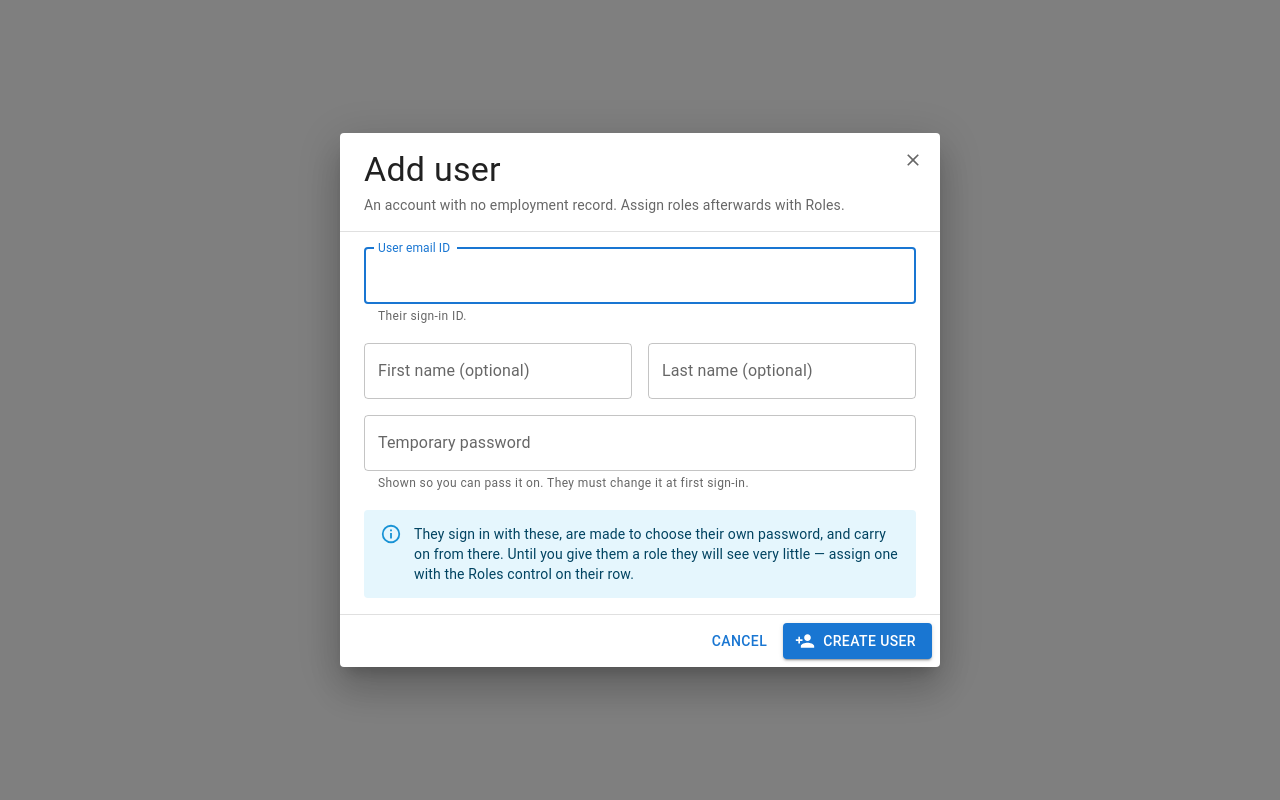
Test: AddUserDialog › shows a field error from the server against its field
Type "New.Person@trigyan.io" into the field labelled "User email ID" at (640, 276), box [364,248,916,304]
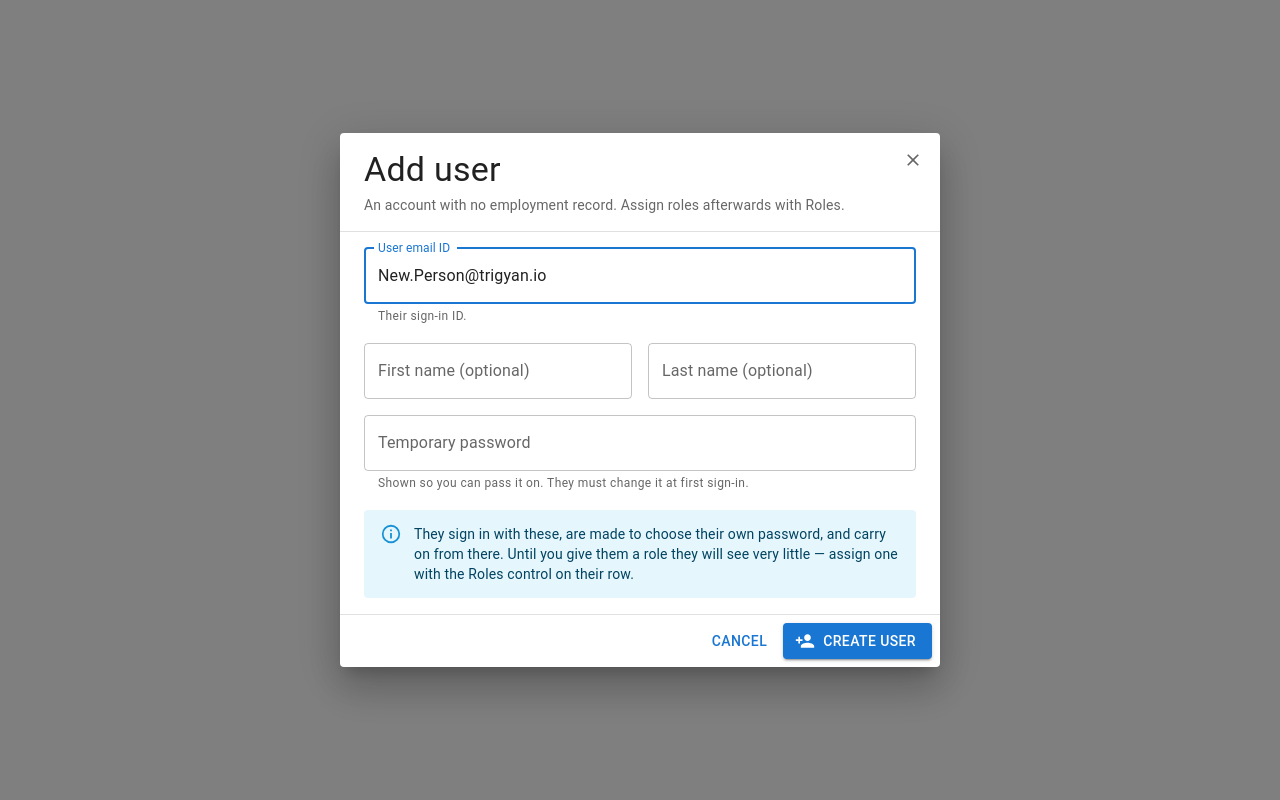
Type "Welcome@2026" into the field labelled "Temporary password" at (640, 443), box [364,415,916,471]
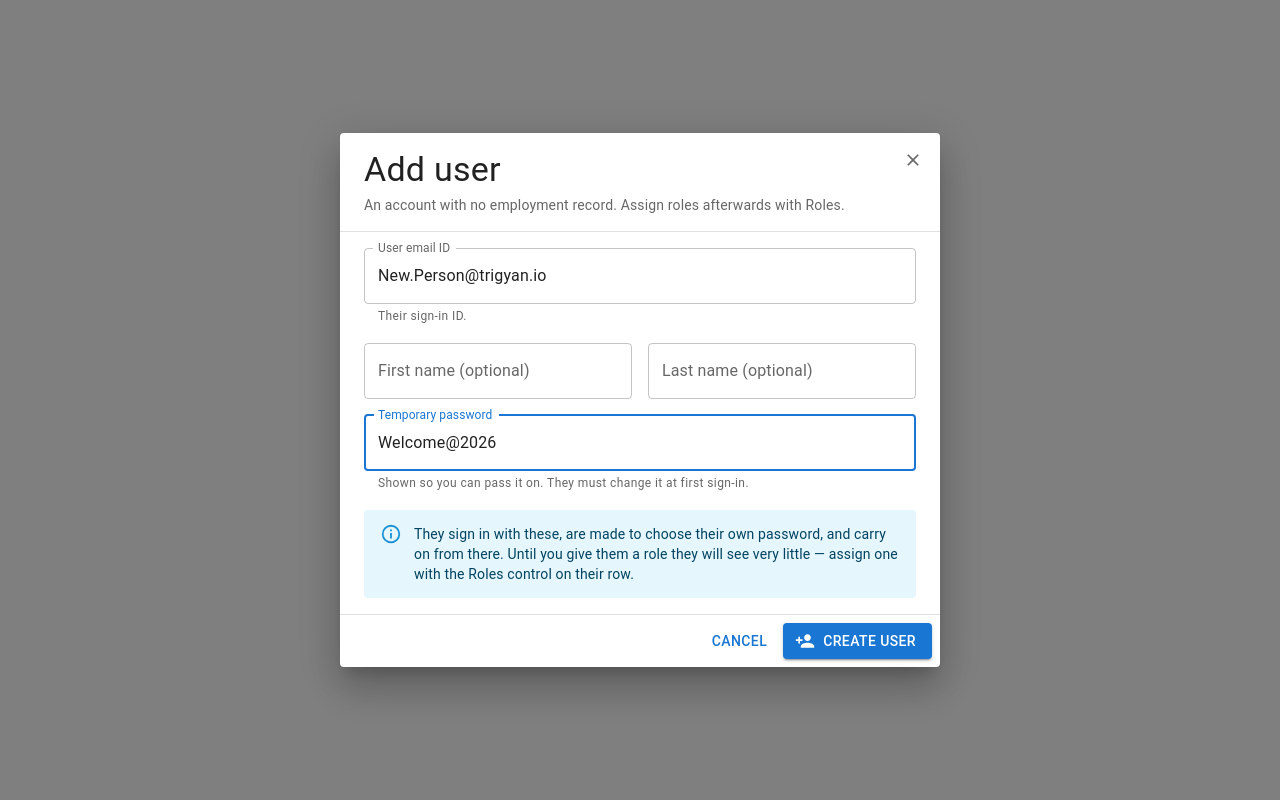
Click the button "Create user" at (858, 641), box [783,623,932,659]
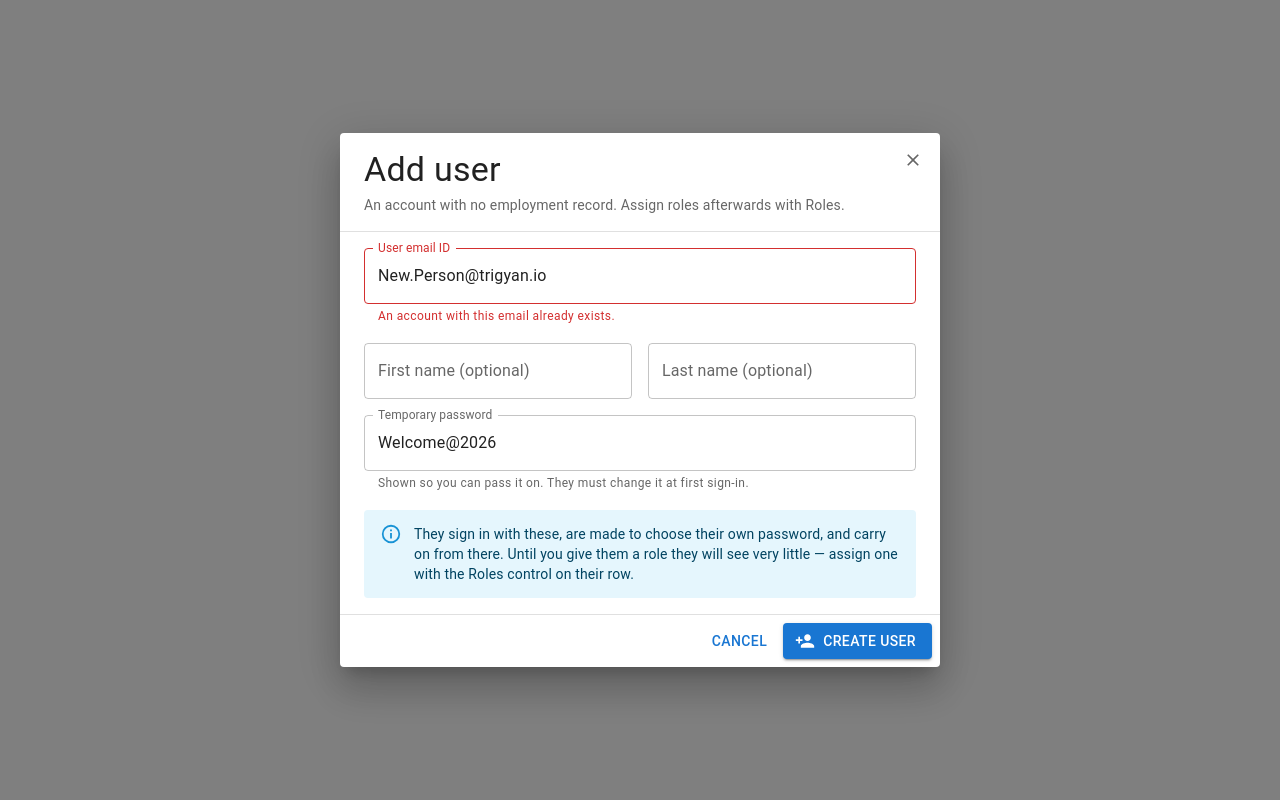
Expected: the text "An account with this email already exists." is shown, [378,309,615,323]
